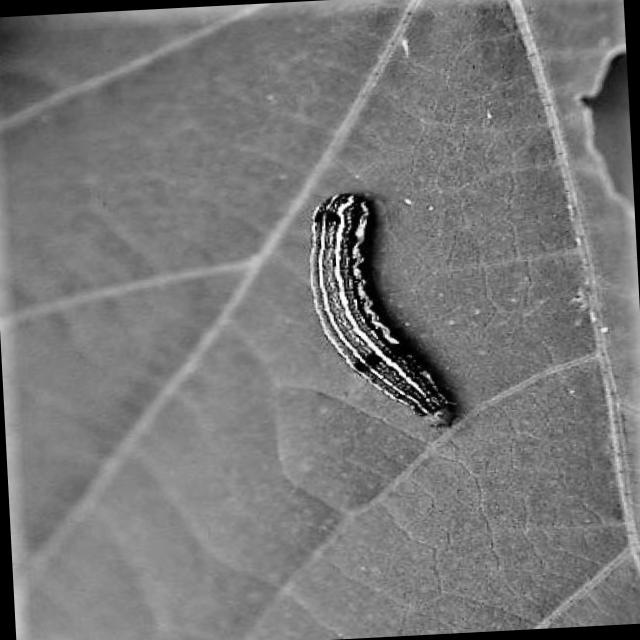Armyworm: (215, 171, 508, 439)
